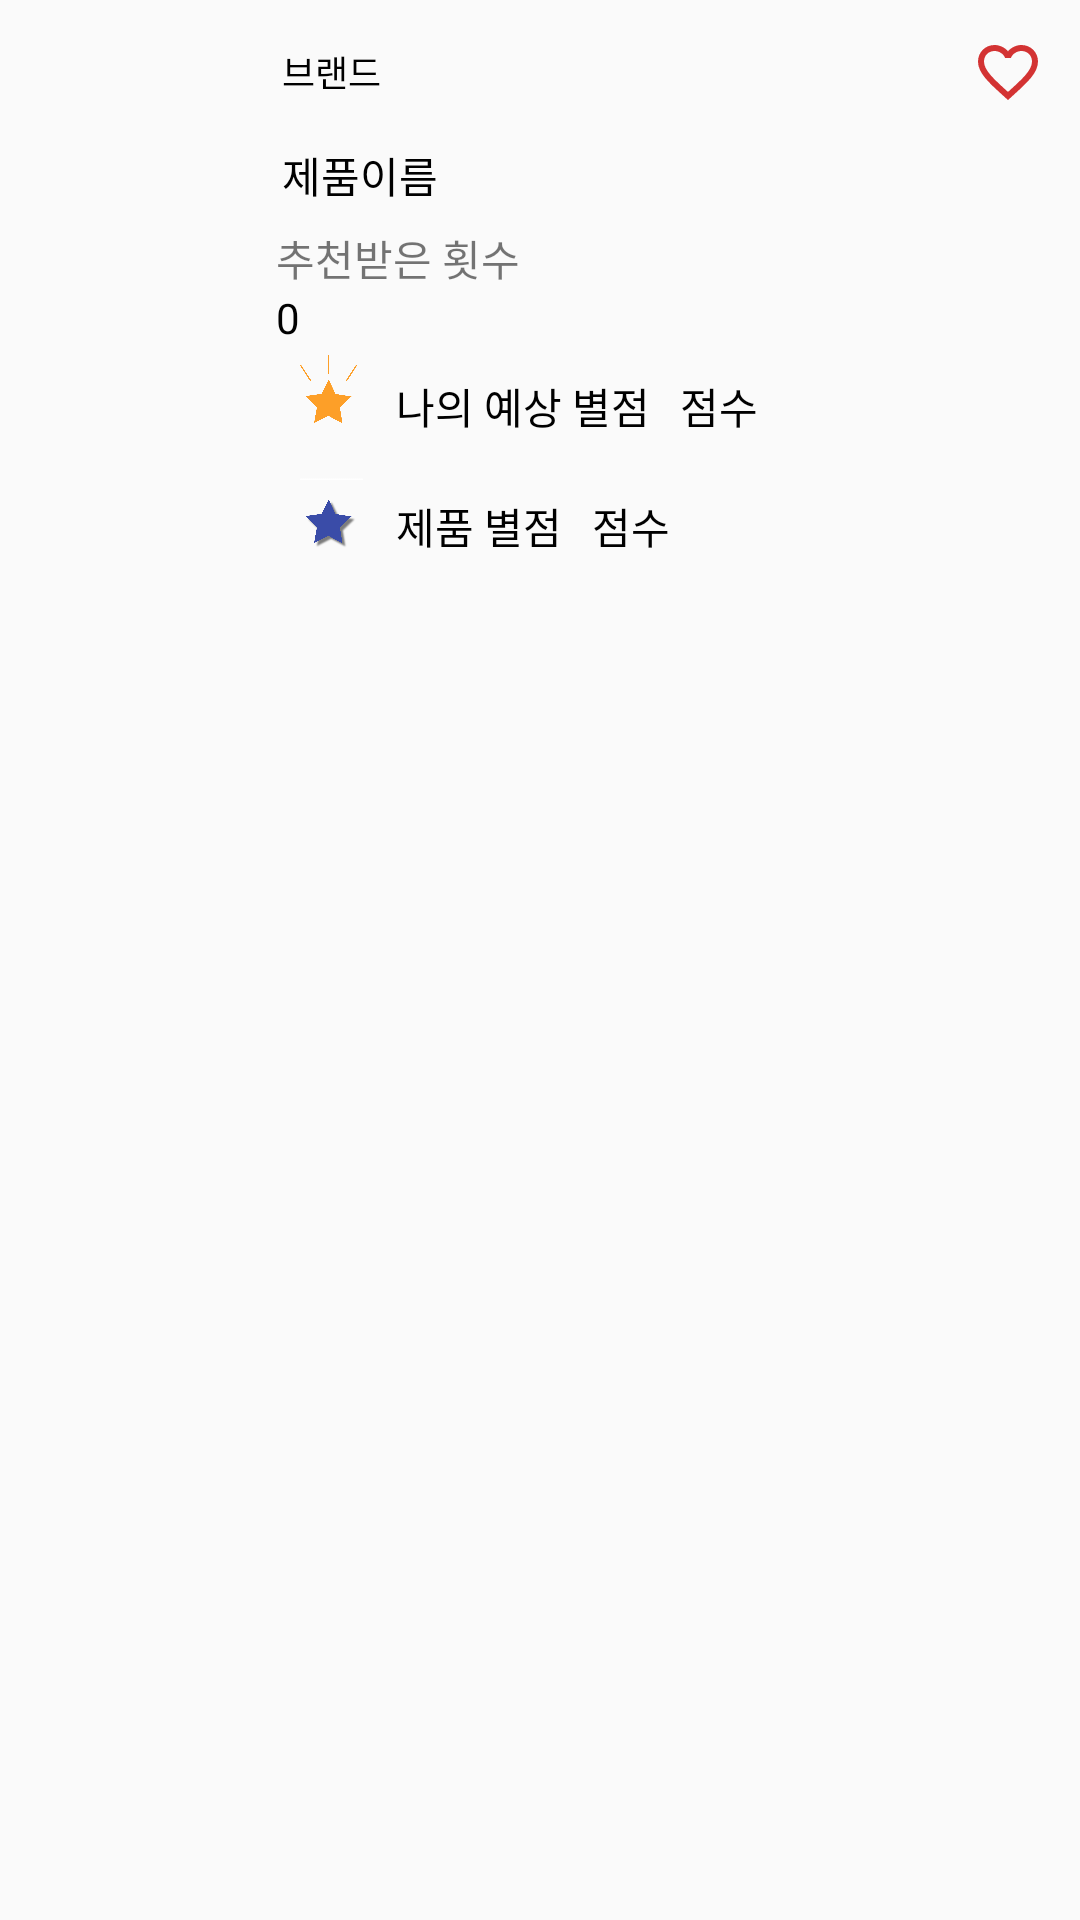

Icon bounding boxes for this 1080px x 1920px phone screenshot, format [x1=x1, y1=y1, x2=x2, y2=y2]:
favorite border: [x1=978, y1=45, x2=1038, y2=100]
ratestar: [x1=300, y1=355, x2=357, y2=423]
ratestarb: [x1=306, y1=500, x2=354, y2=546]
